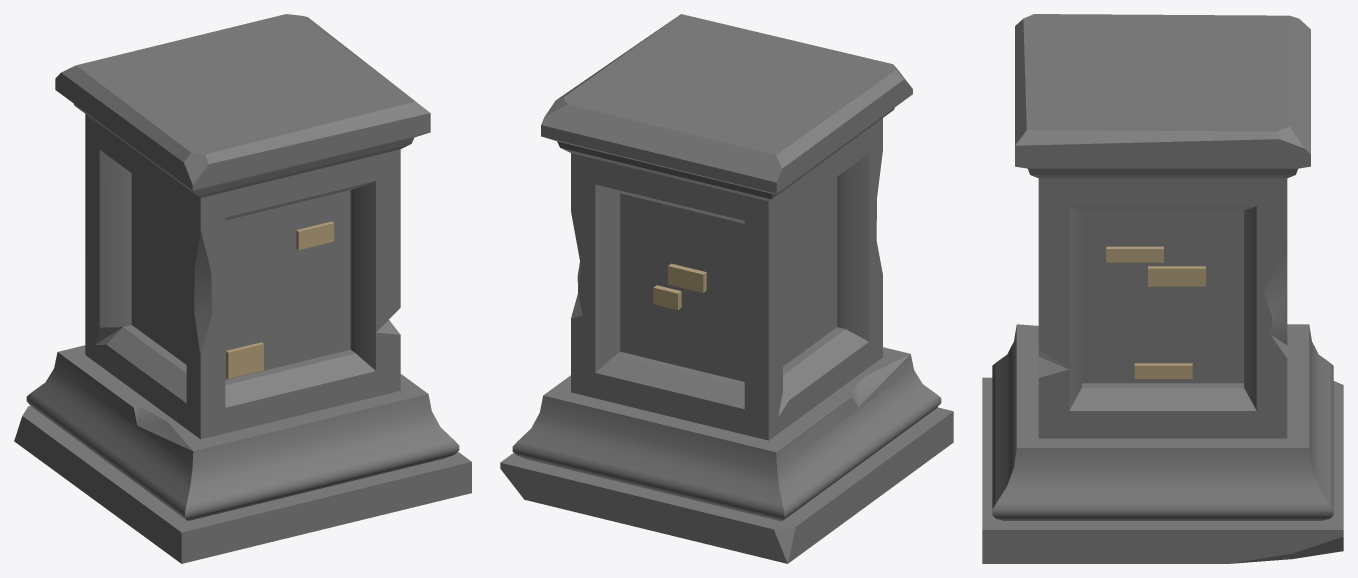
Rendered from pedestal_5m (1).fbx.
The picture shows the model from 3 angles, left to right: view 1: azimuth 30°, elevation 25°; view 2: azimuth 150°, elevation 25°; view 3: azimuth 270°, elevation 25°; orthographic projection. The views are drawn at different scales.
Parts seen in each view (by area): view 1: pedestal_5m; view 2: pedestal_5m; view 3: pedestal_5m.
Part boxes in pixels (<box>): pedestal_5m: <box>14,14,471,563</box>; pedestal_5m: <box>500,14,953,563</box>; pedestal_5m: <box>982,14,1343,563</box>.
Size of the model in its own units: 3.69 by 4.68 by 3.69.
